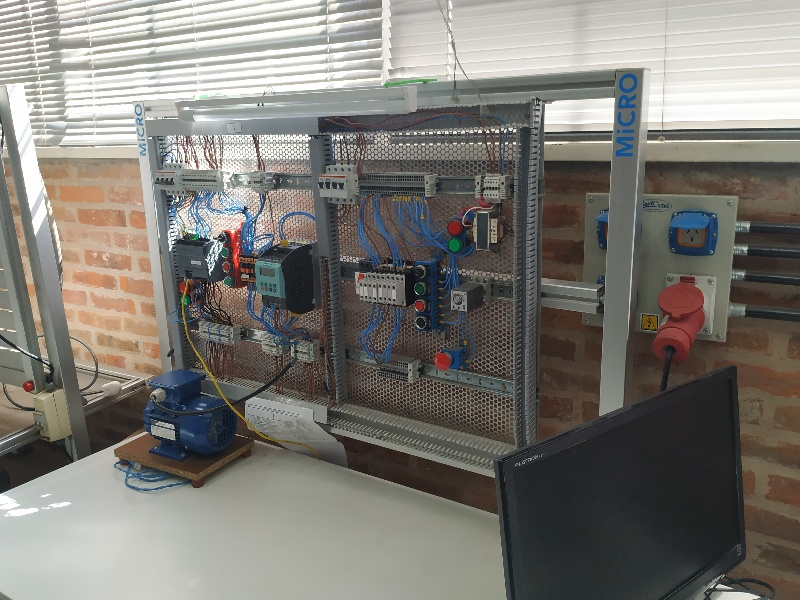Tablero 1: (147, 132, 532, 465)
